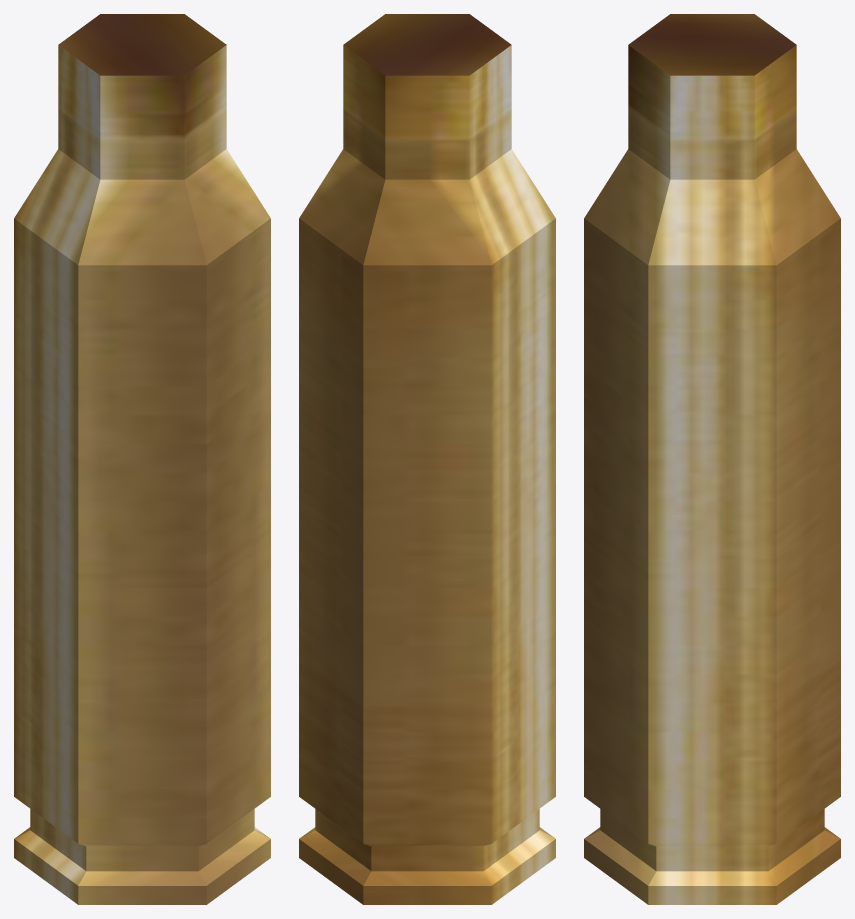
File: rifle.obj
The picture shows the model from 3 angles, left to right: view 1: azimuth 30°, elevation 25°; view 2: azimuth 150°, elevation 25°; view 3: azimuth 270°, elevation 25°; orthographic projection.
Parts seen in each view (by area): view 1: Circle.001; view 2: Circle.001; view 3: Circle.001.
Part boxes in pixels (left/top/right/bottom): Circle.001: left=14, top=14, right=270, bottom=904; Circle.001: left=299, top=14, right=555, bottom=904; Circle.001: left=584, top=14, right=840, bottom=904.
Size of the model in its own units: 0.0602 by 0.2428 by 0.0695.
